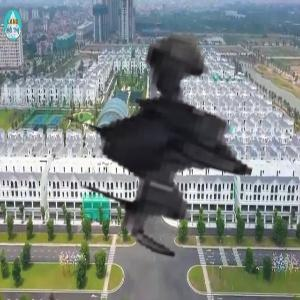drone: (8, 5, 260, 257)
